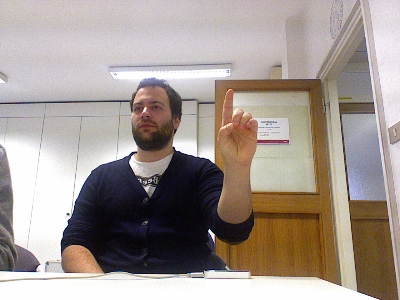食指: (216, 87, 258, 163)
